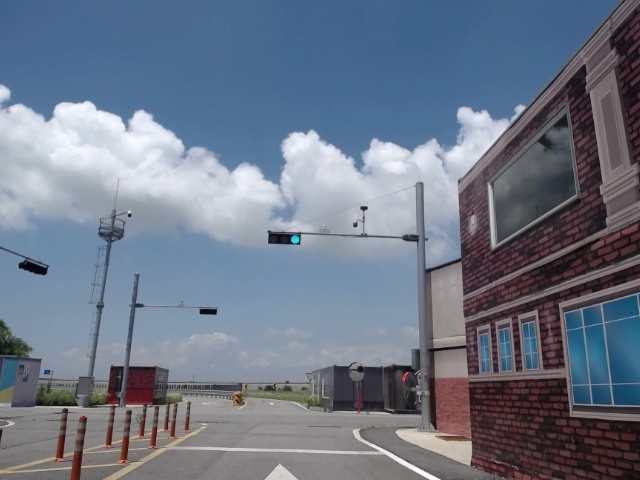green_3: (269, 234, 299, 244)
